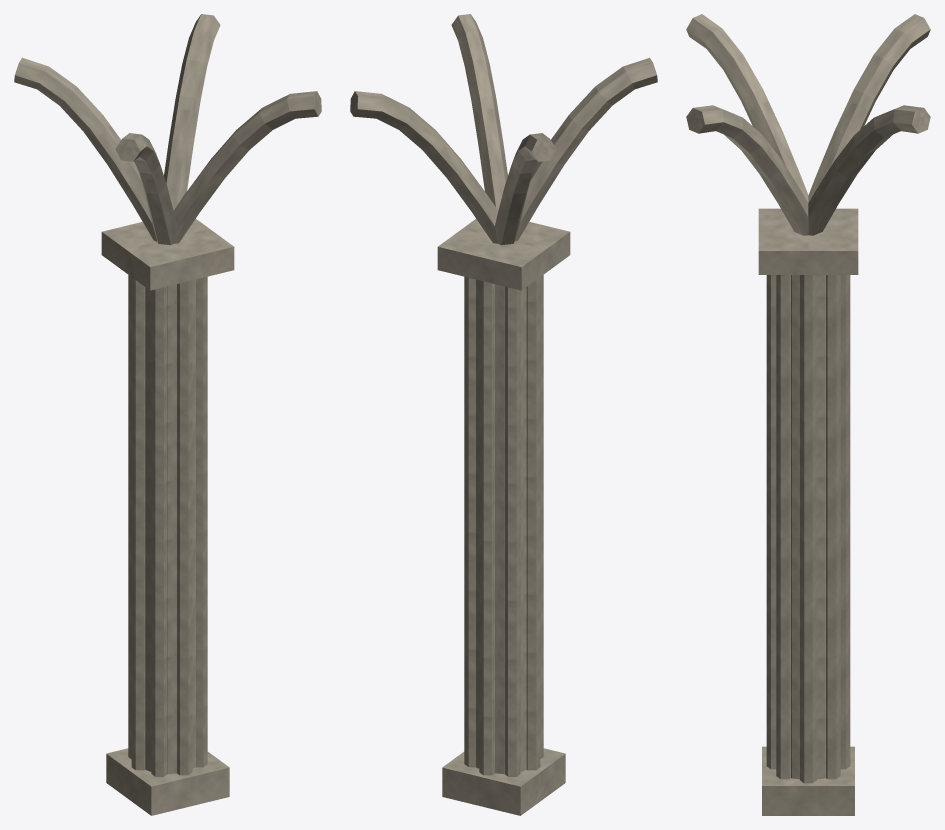
File: Pillar_Gothic_1.gltf
The picture shows the model from 3 angles, left to right: view 1: azimuth 30°, elevation 25°; view 2: azimuth 150°, elevation 25°; view 3: azimuth 270°, elevation 25°; orthographic projection. The views are drawn at different scales.
Parts seen in each view (by area): view 1: Pillar_Gothic_1; view 2: Pillar_Gothic_1; view 3: Pillar_Gothic_1.
Part boxes in pixels (x1,y1,x2,y2): Pillar_Gothic_1: [14, 14, 321, 815]; Pillar_Gothic_1: [350, 14, 657, 815]; Pillar_Gothic_1: [686, 14, 930, 815].
Size of the model in its own units: 3.68 by 12.17 by 3.68.
1 material, 1 textured.
